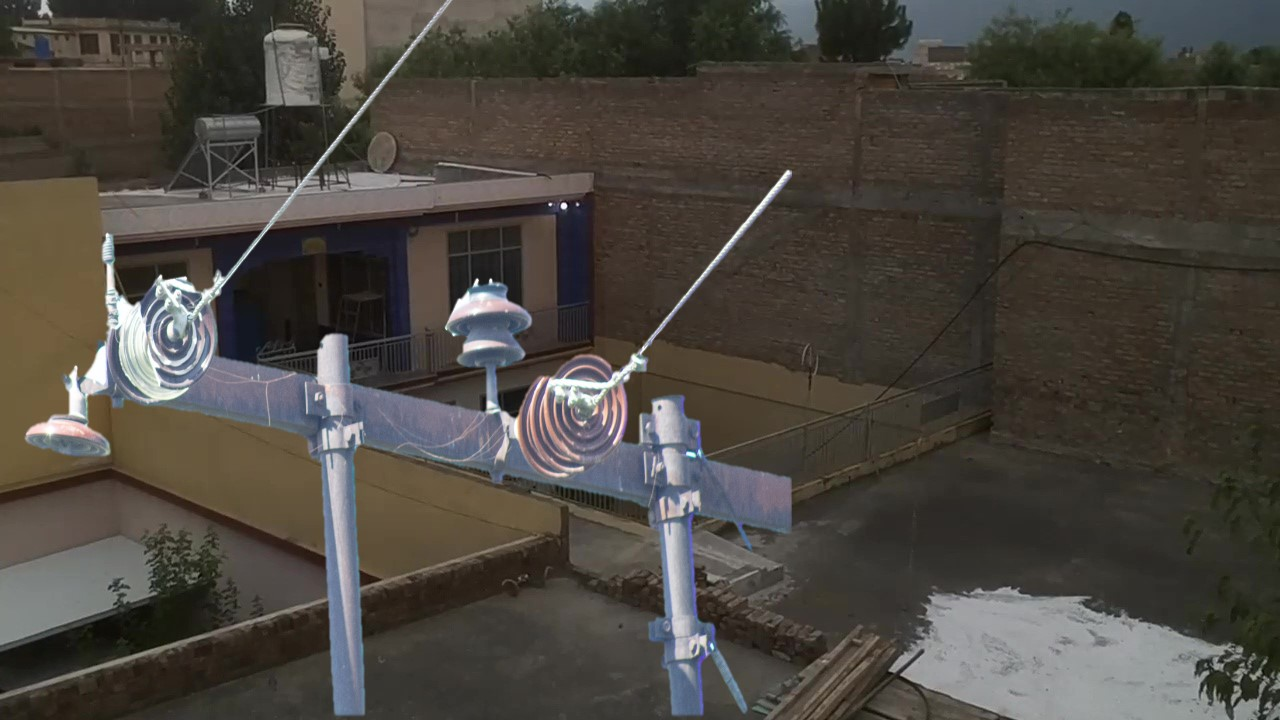defect_disc: (137, 273, 224, 395)
insulator_disc: (540, 343, 630, 468), (21, 409, 116, 471)
